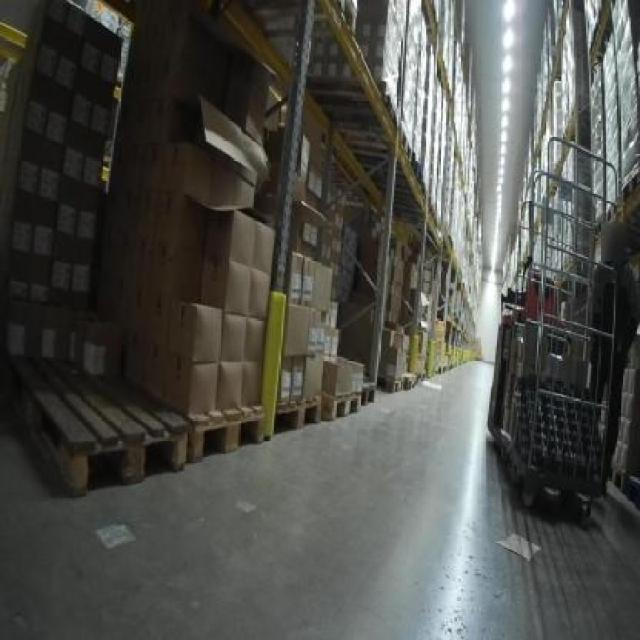floor: (0, 360, 637, 637)
pallets: (11, 357, 186, 492)
